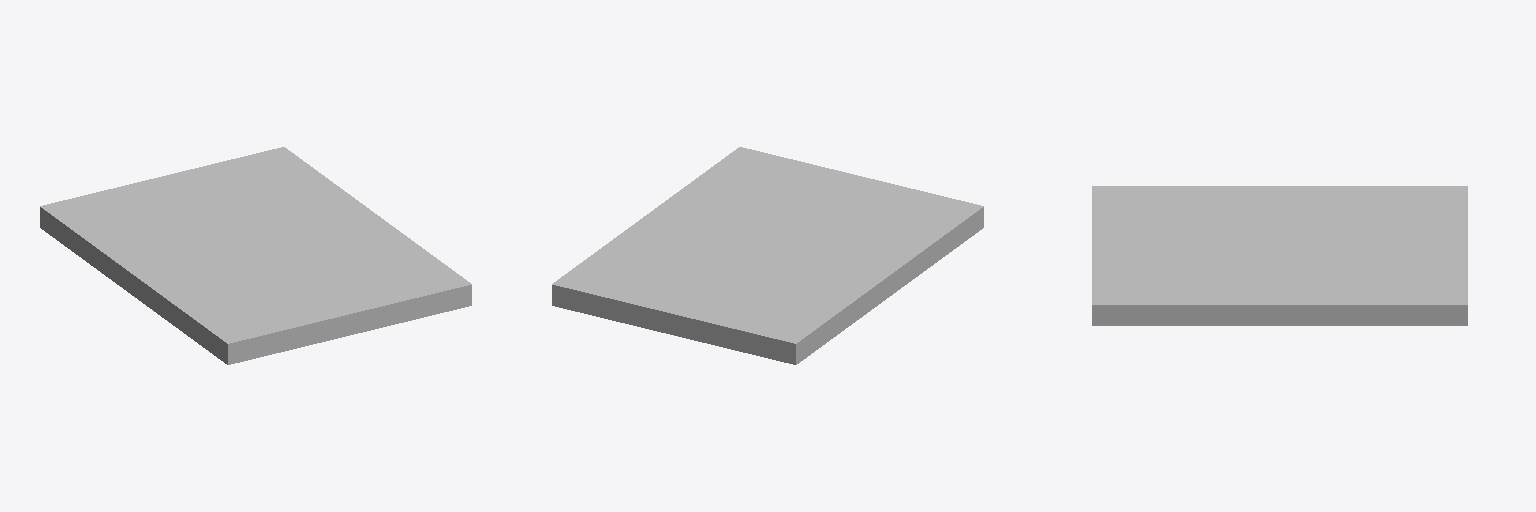
File: Plate4_3x4.obj
3 views of the same model, side by side, from view 1: azimuth 30°, elevation 25°; view 2: azimuth 150°, elevation 25°; view 3: azimuth 270°, elevation 25° (orthographic).
Visible parts, largest first — view 1: Plate4_3x4_Cube.335; view 2: Plate4_3x4_Cube.335; view 3: Plate4_3x4_Cube.335.
Boxes of the visible parts, x1=… form: Plate4_3x4_Cube.335: x1=40, y1=147, x2=471, y2=364; Plate4_3x4_Cube.335: x1=552, y1=147, x2=983, y2=364; Plate4_3x4_Cube.335: x1=1092, y1=186, x2=1467, y2=325.
Size of the model in its own units: 3 by 0.25 by 4.